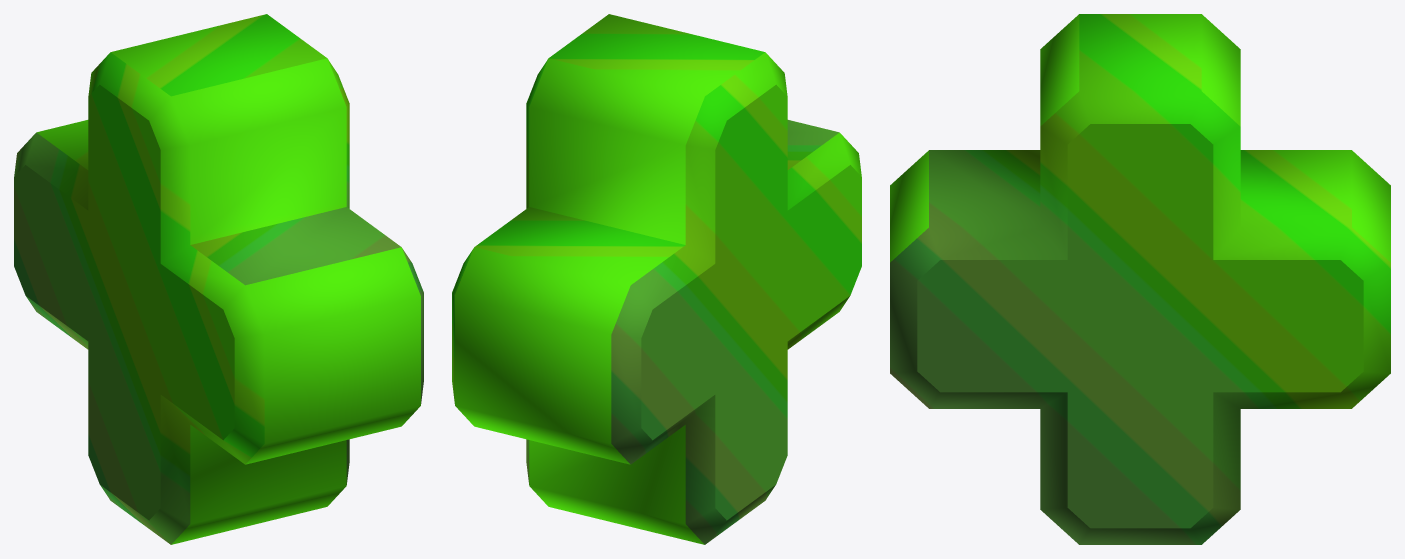
Rendered from HealthPack.fbx.
The picture shows the model from 3 angles, left to right: view 1: azimuth 30°, elevation 25°; view 2: azimuth 150°, elevation 25°; view 3: azimuth 270°, elevation 25°; orthographic projection.
Visible parts, largest first — view 1: HealthPack; view 2: HealthPack; view 3: HealthPack.
Part boxes in pixels (x1,y1,x2,y2): HealthPack: [14, 14, 423, 544]; HealthPack: [452, 14, 861, 544]; HealthPack: [890, 14, 1390, 544].
Bounding box in the file's own units: 177 × 400 × 400.
1 material, 1 textured.
